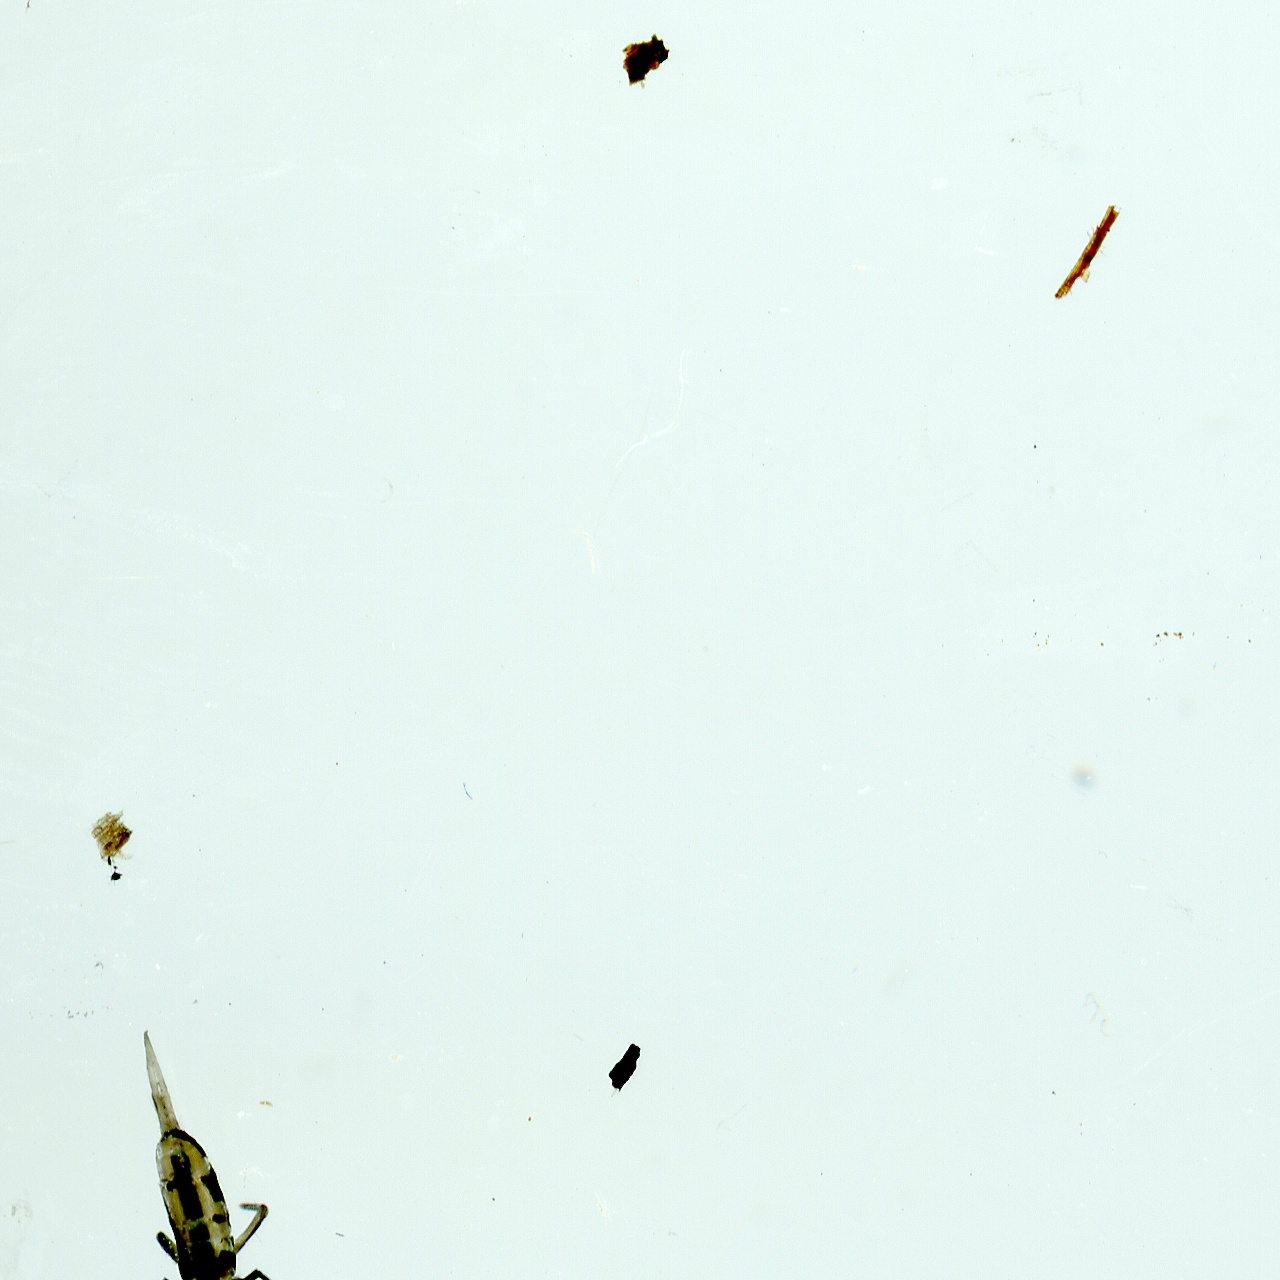arthropod: (115, 1021, 283, 1280)
